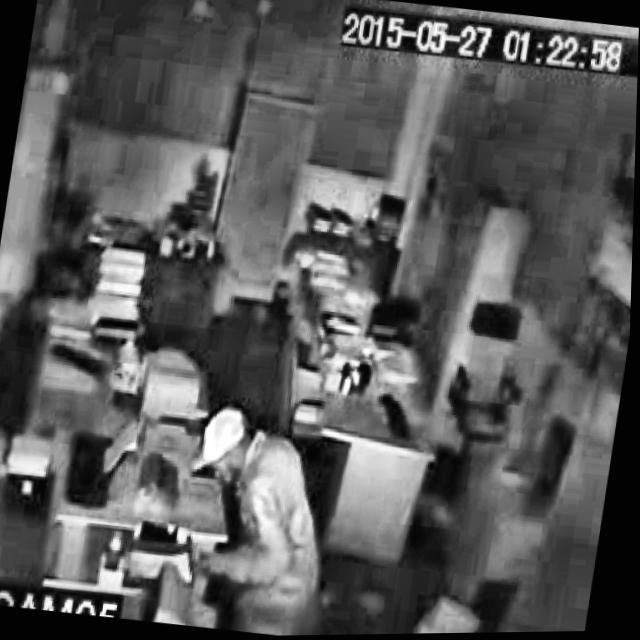burglary: (157, 388, 358, 638)
